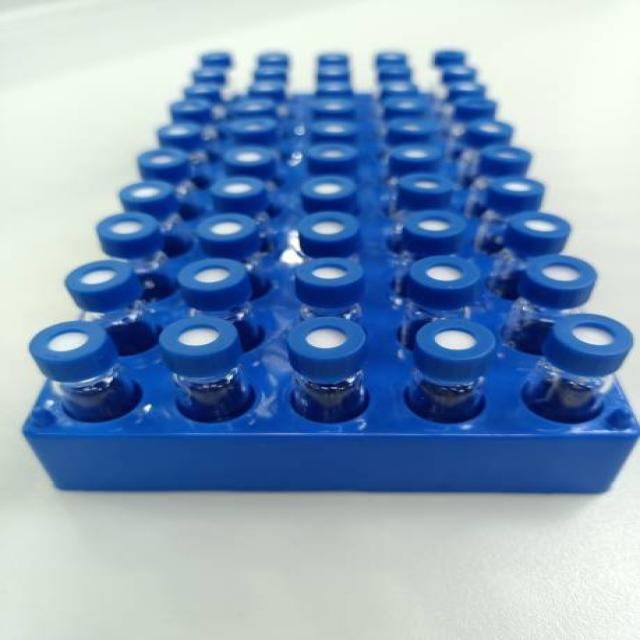vial: (541, 308, 640, 361), (291, 315, 381, 366), (160, 310, 249, 358), (23, 319, 112, 362), (416, 316, 502, 358), (402, 250, 476, 290), (70, 260, 144, 300), (504, 209, 584, 242), (179, 256, 246, 293), (402, 211, 467, 249), (295, 258, 365, 293), (528, 254, 592, 290), (300, 213, 367, 244), (95, 211, 151, 247), (204, 211, 256, 246), (302, 173, 362, 203), (225, 144, 278, 173), (402, 172, 456, 200), (307, 142, 359, 170), (495, 178, 548, 205), (484, 145, 546, 167), (214, 175, 268, 200), (142, 149, 188, 176), (229, 116, 281, 136), (126, 183, 172, 204), (391, 146, 444, 164), (159, 122, 208, 138), (471, 118, 514, 136), (390, 118, 430, 137), (312, 120, 361, 135), (456, 97, 508, 111), (235, 97, 277, 114), (388, 96, 427, 113), (316, 99, 357, 115), (171, 100, 214, 113), (428, 49, 470, 62), (180, 84, 222, 97), (449, 79, 488, 92), (376, 63, 416, 75), (256, 67, 292, 80), (387, 80, 422, 93), (259, 52, 295, 64), (376, 52, 411, 64), (440, 65, 478, 76), (195, 66, 224, 80), (198, 51, 234, 61), (251, 84, 289, 93), (318, 54, 352, 62)
